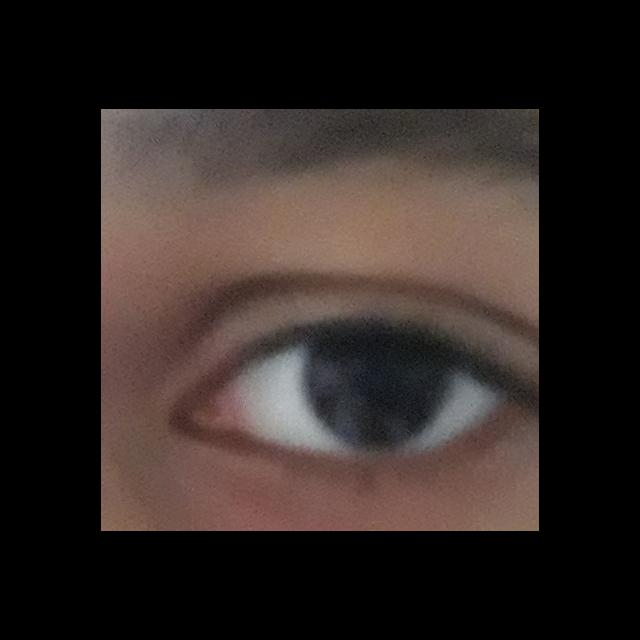eye: (220, 335, 511, 450)
iris: (303, 336, 456, 450)
